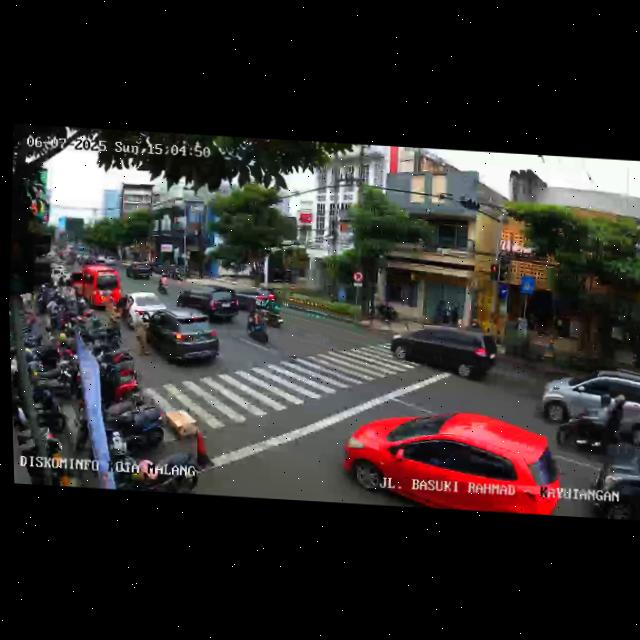car: (342, 407, 565, 516), (539, 362, 640, 437), (388, 320, 499, 383), (139, 310, 223, 371), (585, 440, 640, 521), (173, 276, 241, 324), (68, 263, 122, 311), (115, 291, 169, 331), (125, 259, 154, 281)
motorcycle: (552, 392, 635, 453), (244, 297, 275, 348), (261, 293, 286, 331), (156, 274, 170, 295)
person: (130, 311, 152, 357)
